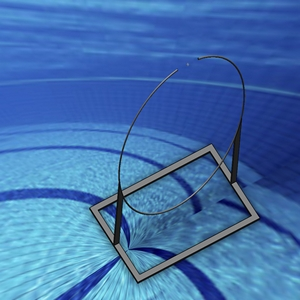circle: (87, 53, 258, 283)
